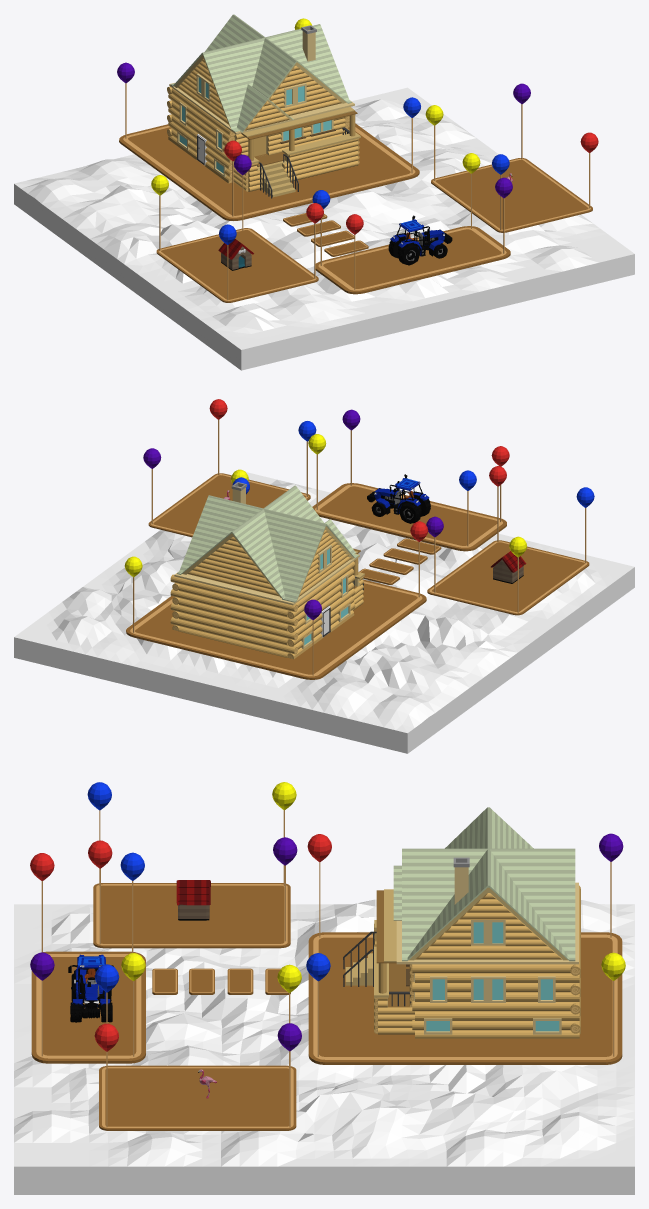
3 renders of one model, top to bottom at view 1: azimuth 30°, elevation 25°; view 2: azimuth 150°, elevation 25°; view 3: azimuth 270°, elevation 25°, orthographic. The views are drawn at different scales.
Visible parts, largest first — view 1: Cube.013, Cube.1516, VEHICLES_TRACTOR, OBJRANDOM_DOGHOUSE; view 2: Cube.013, Cube.1516, VEHICLES_TRACTOR, OBJRANDOM_DOGHOUSE; view 3: Cube.013, Cube.1516, VEHICLES_TRACTOR, OBJRANDOM_DOGHOUSE.
Part boxes in pixels (x1,y1,x2,y2): Cube.013: (14, 18, 634, 370); Cube.1516: (167, 14, 360, 198); VEHICLES_TRACTOR: (388, 215, 452, 265); OBJRANDOM_DOGHOUSE: (218, 239, 253, 270); Cube.013: (14, 399, 634, 753); Cube.1516: (170, 482, 364, 659); VEHICLES_TRACTOR: (367, 474, 430, 523); OBJRANDOM_DOGHOUSE: (491, 551, 526, 583); Cube.013: (14, 782, 634, 1194); Cube.1516: (343, 807, 580, 1038); VEHICLES_TRACTOR: (68, 954, 113, 1022); OBJRANDOM_DOGHOUSE: (176, 880, 210, 920).
Bounding box in the file's own units: 4000 × 1687 × 4000.
Materials: 40 (2 with a texture image).
